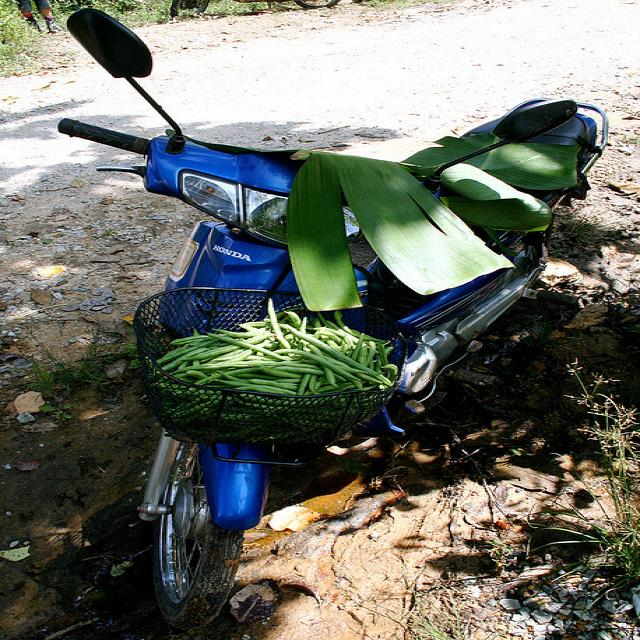motor: (52, 1, 627, 620)
